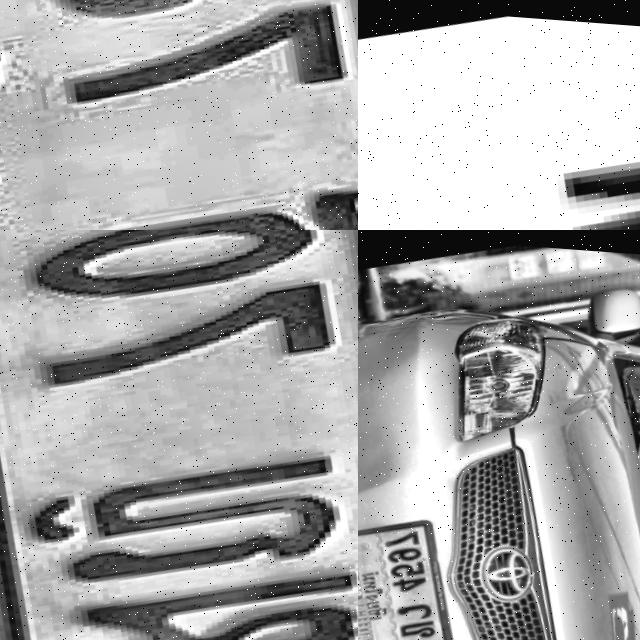license-plate: (0, 230, 358, 640), (0, 0, 358, 230), (358, 0, 640, 230), (358, 503, 476, 640)
